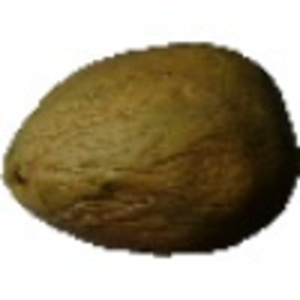mamão: (4, 36, 292, 263)
